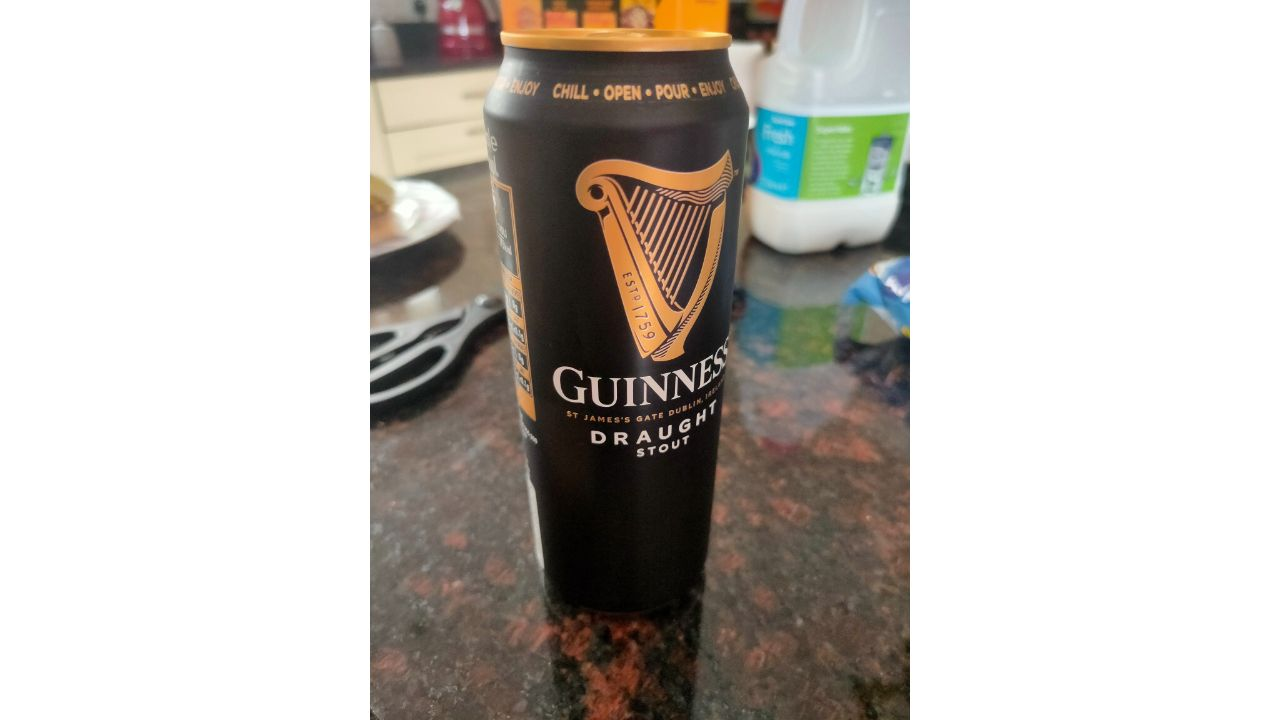Can: (482, 27, 754, 612)
